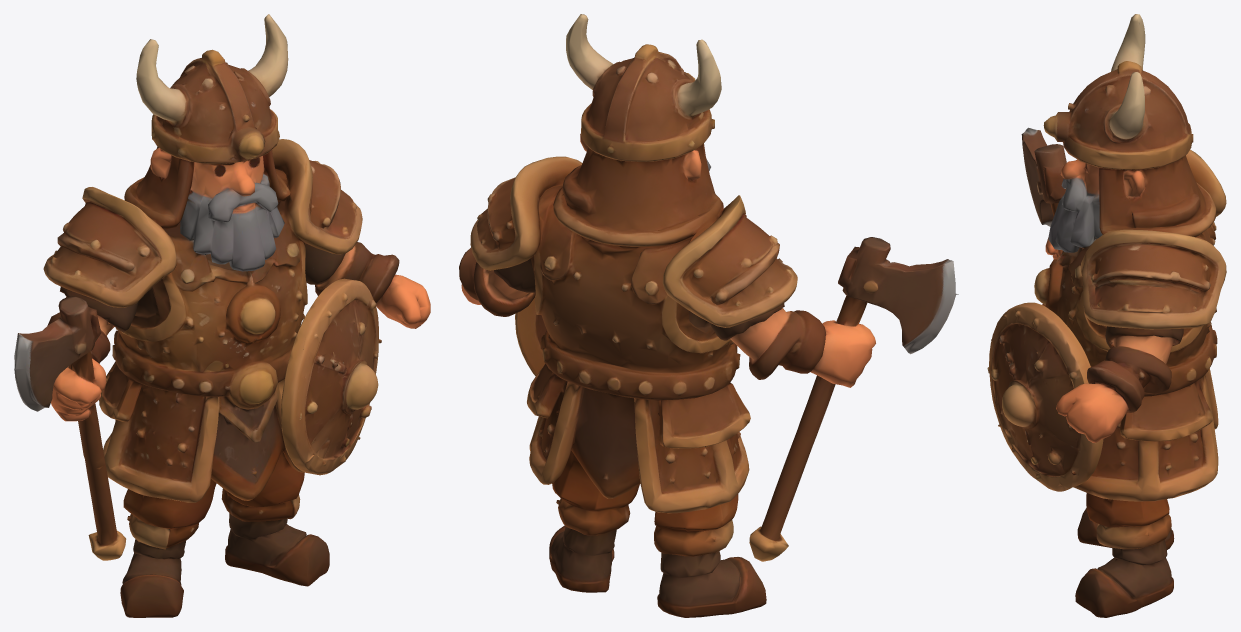
File: hero_alp.glb
3 views of the same model, side by side, from view 1: azimuth 30°, elevation 25°; view 2: azimuth 150°, elevation 25°; view 3: azimuth 270°, elevation 25° (orthographic). The views are drawn at different scales.
Parts seen in each view (by area): view 1: tripo_node_5920ffac-024a-44f6-be74-e354b263cffa; view 2: tripo_node_5920ffac-024a-44f6-be74-e354b263cffa; view 3: tripo_node_5920ffac-024a-44f6-be74-e354b263cffa.
Boxes of the visible parts, left/top/right/bottom form: tripo_node_5920ffac-024a-44f6-be74-e354b263cffa: left=14, top=14, right=430, bottom=617; tripo_node_5920ffac-024a-44f6-be74-e354b263cffa: left=459, top=14, right=958, bottom=617; tripo_node_5920ffac-024a-44f6-be74-e354b263cffa: left=987, top=14, right=1226, bottom=617.
Size of the model in its own units: 0.8383 by 1 by 0.4082.
1 material, 1 textured.
